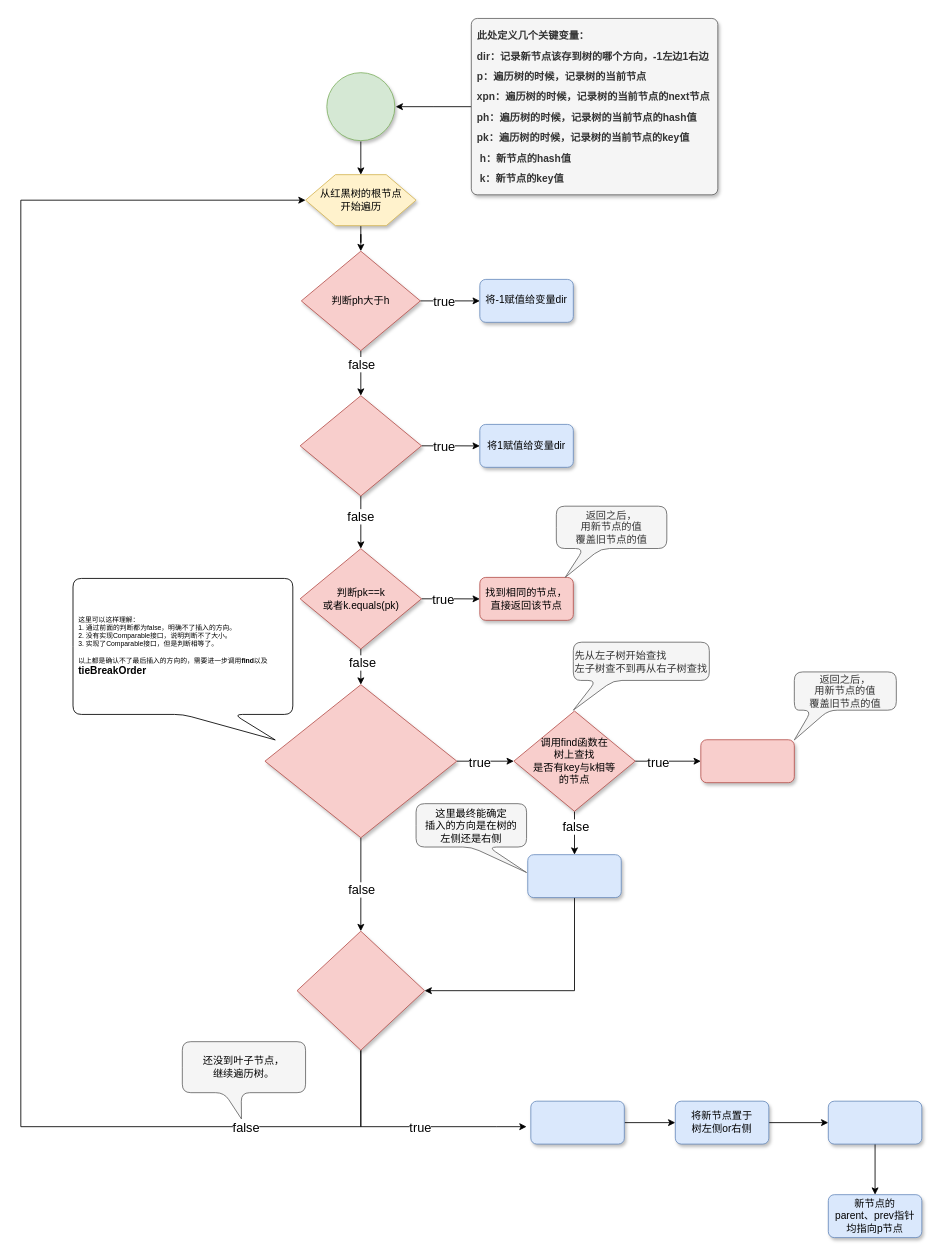
The diagram is 942 pixels wide and 1259 high, and some of its shapes have lost their labels. Each missing label, with the centre of its shape:
start: pixel 361 107
创建树节点: pixel 578 1123
判断ph小于h: pixel 361 446
在树上找到相同的节点，直接返回该节点: pixel 748 762
将p节点的next 指向新节点: pixel 875 1123
根据dir判断子节点 是否是叶子节点: pixel 361 991
调用tieBreakOrder函数返回-1或1: pixel 575 877
（判断新节点没有 实现Comparable接口 ） 或者 （k和pk的compareTo 等于0 ）: pixel 361 762
